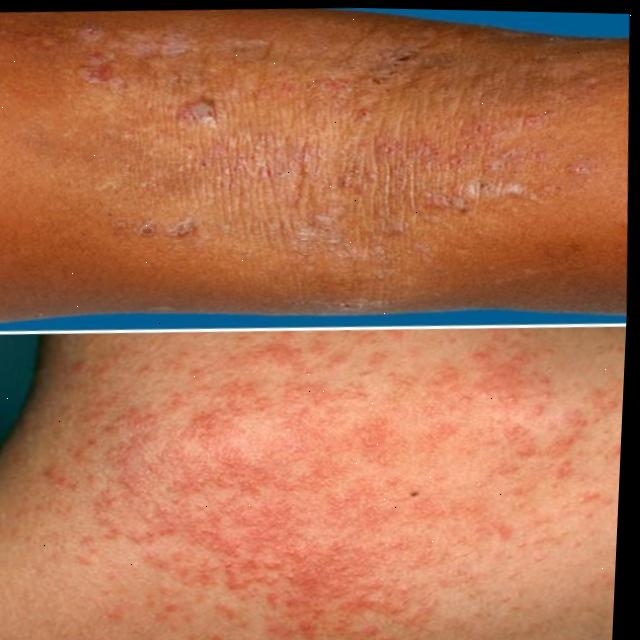Eczema: (0, 0, 526, 248), (49, 379, 489, 604)
